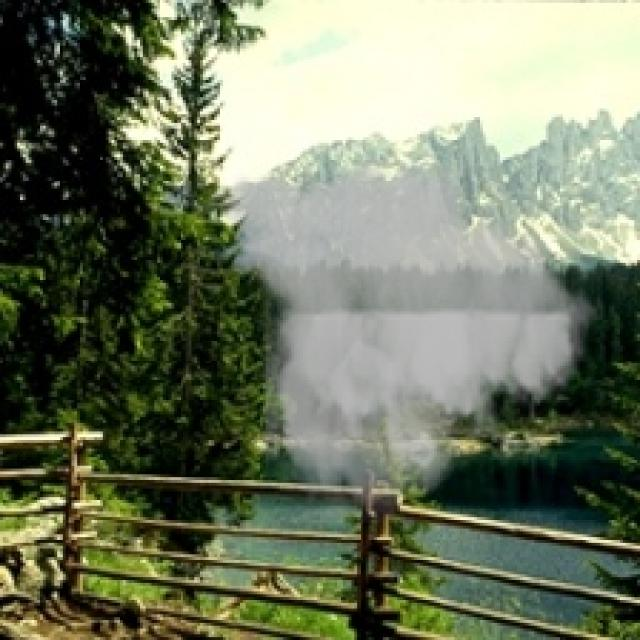smoke: (203, 148, 608, 523)
